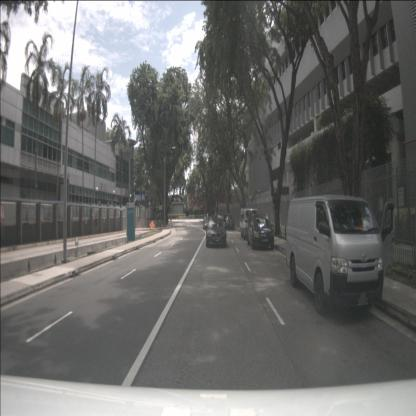vehicle-car: (286, 195, 384, 315), (248, 214, 274, 249), (206, 218, 226, 246), (225, 215, 234, 230), (203, 217, 212, 230), (218, 215, 226, 229)
vehicle-truck: (240, 208, 258, 240)
